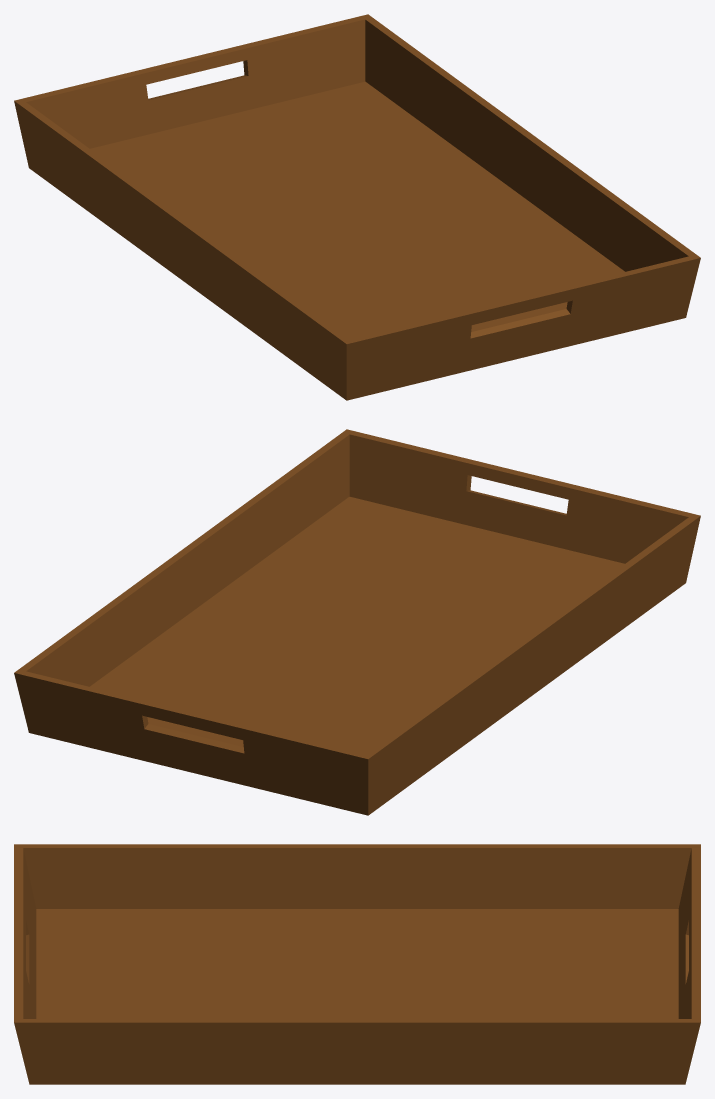
Rendered from FoodProp_4_1_B.fbx.
3 views of the same model, one above another, from view 1: azimuth 30°, elevation 25°; view 2: azimuth 150°, elevation 25°; view 3: azimuth 270°, elevation 25° (orthographic). The views are drawn at different scales.
Parts seen in each view (by area): view 1: FoodProp_4_1_B; view 2: FoodProp_4_1_B; view 3: FoodProp_4_1_B.
Part boxes in pixels (left/top/right/bottom): FoodProp_4_1_B: left=14, top=14, right=700, bottom=400; FoodProp_4_1_B: left=14, top=429, right=700, bottom=815; FoodProp_4_1_B: left=14, top=844, right=700, bottom=1084.
Bounding box in the file's own units: 37.22 × 6.4 × 60.57.
